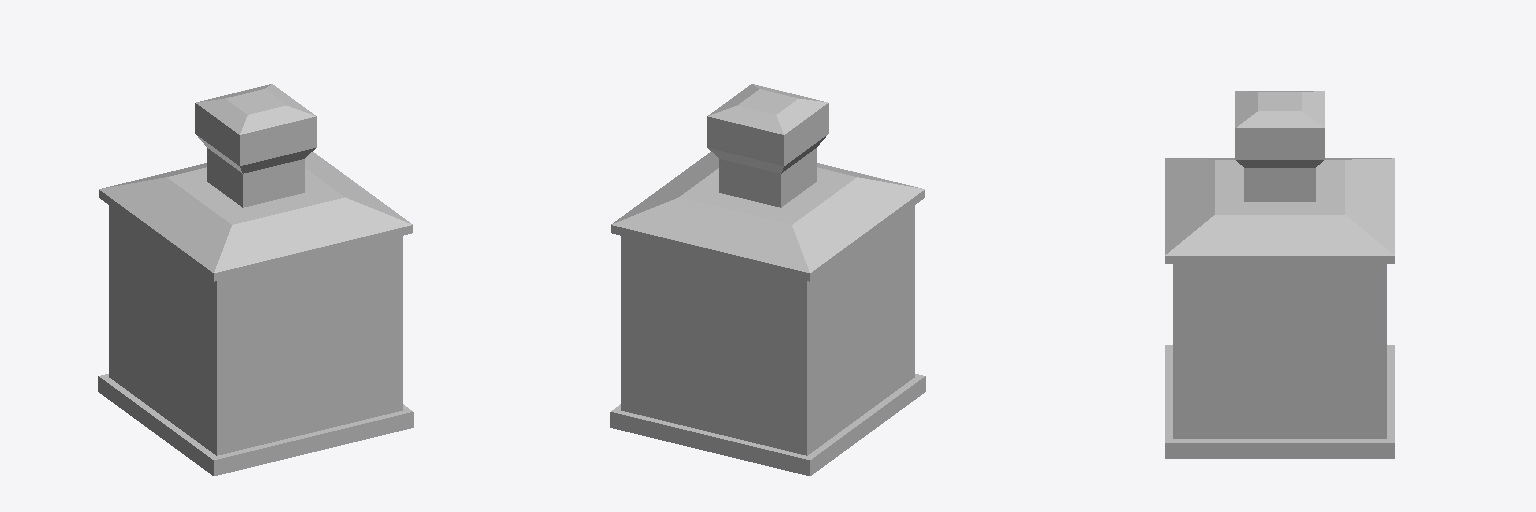
File: Potion.obj
The picture shows the model from 3 angles: view 1: azimuth 30°, elevation 25°; view 2: azimuth 150°, elevation 25°; view 3: azimuth 270°, elevation 25°; orthographic projection.
Parts seen in each view (by area): view 1: Cube.003_Cube.009; view 2: Cube.003_Cube.009; view 3: Cube.003_Cube.009.
Boxes of the visible parts, x1,y1,x2,y2 form: Cube.003_Cube.009: [98, 84, 413, 475]; Cube.003_Cube.009: [610, 84, 925, 475]; Cube.003_Cube.009: [1165, 91, 1394, 458].
Bounding box in the file's own units: 0.3168 × 0.4668 × 0.3168.